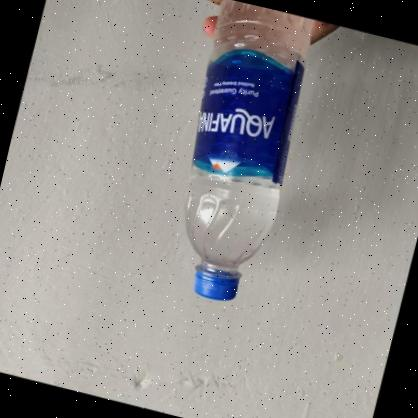bottle: (153, 0, 322, 313)
cap: (188, 264, 242, 304)
label: (184, 39, 310, 186)
